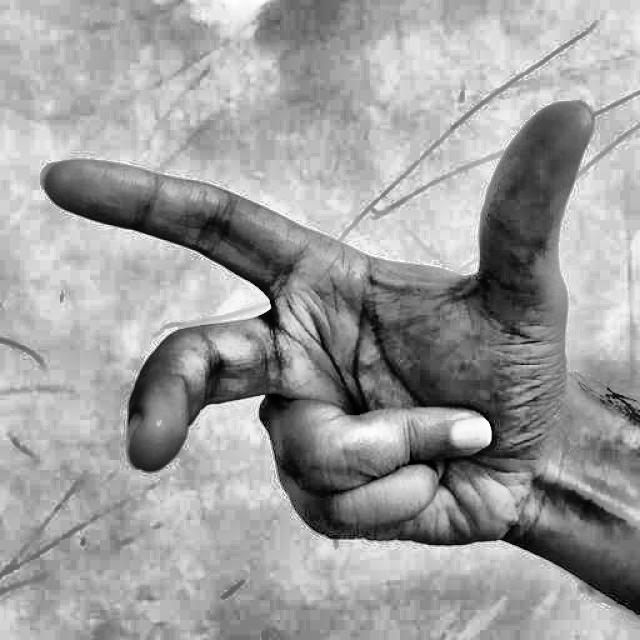Da: (29, 57, 617, 606)
